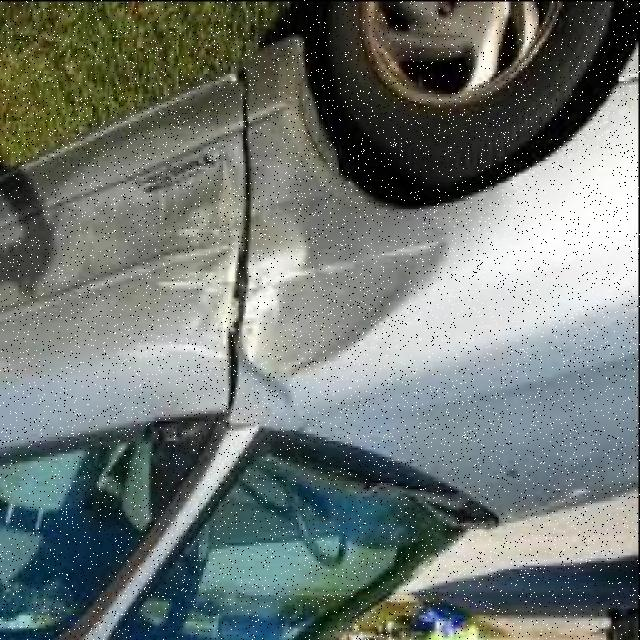damage: (58, 109, 454, 420)
